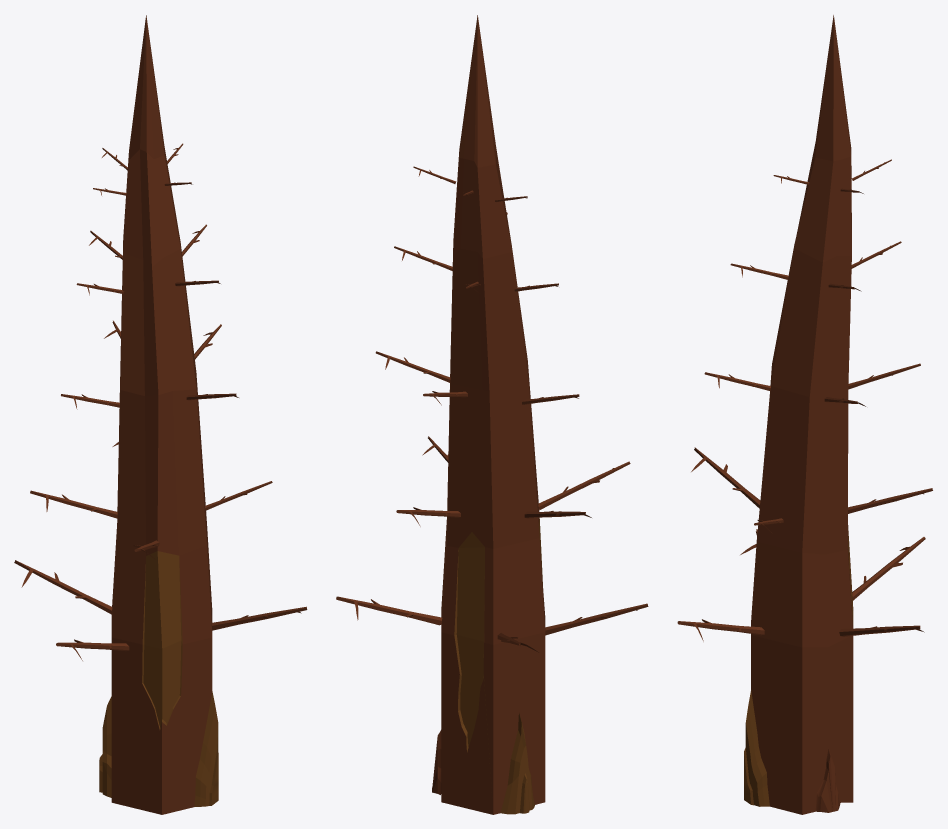
The model's file is Tree_B_Burnt.fbx.
3 views of the same model, side by side, from view 1: azimuth 30°, elevation 25°; view 2: azimuth 150°, elevation 25°; view 3: azimuth 270°, elevation 25° (orthographic). The views are drawn at different scales.
Parts seen in each view (by area): view 1: pCylinder44; view 2: pCylinder44; view 3: pCylinder44.
Boxes of the visible parts, bbox=[...] form: pCylinder44: bbox=[14, 15, 307, 814]; pCylinder44: bbox=[336, 15, 648, 814]; pCylinder44: bbox=[677, 15, 932, 814].
Bounding box in the file's own units: 50.89 × 167 × 49.9.
